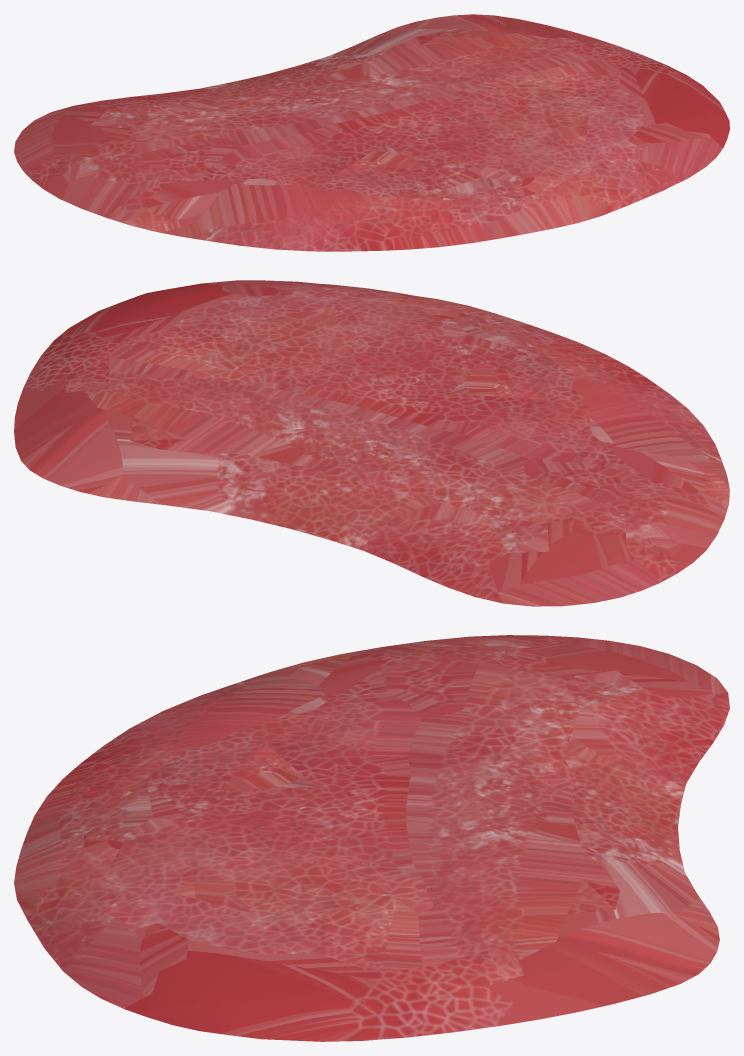
The model's file is ground_005 .fbx.
The picture shows the model from 3 angles, top to bottom: view 1: azimuth 30°, elevation 25°; view 2: azimuth 150°, elevation 25°; view 3: azimuth 270°, elevation 25°; orthographic projection. The views are drawn at different scales.
Parts seen in each view (by area): view 1: ground_005__6_; view 2: ground_005__6_; view 3: ground_005__6_.
Part boxes in pixels (x1,y1,x2,y2): ground_005__6_: [14, 14, 729, 251]; ground_005__6_: [14, 280, 729, 606]; ground_005__6_: [14, 635, 729, 1041].
Size of the model in its own units: 11253 by 536 by 8173.
